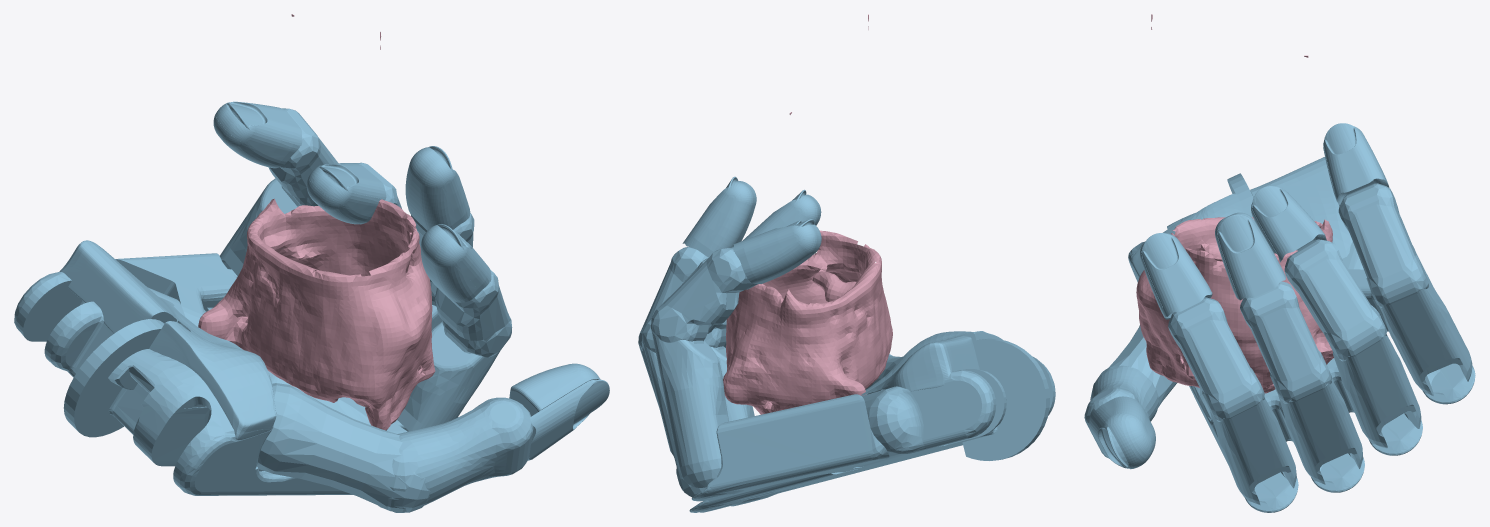
The picture shows the model from 3 angles, left to right: view 1: azimuth 30°, elevation 25°; view 2: azimuth 150°, elevation 25°; view 3: azimuth 270°, elevation 25°; orthographic projection. The views are drawn at different scales.
Visible parts, largest first — view 1: hand, world; view 2: hand, world; view 3: hand, world.
Part boxes in pixels (x1,y1,x2,y2): hand: (14,101,609,512); world: (198,14,435,430); hand: (638,176,1055,512); world: (723,14,892,414); hand: (1084,123,1475,512); world: (1136,14,1333,393).
Size of the model in its own units: 0.1524 by 0.1641 by 0.1255.
